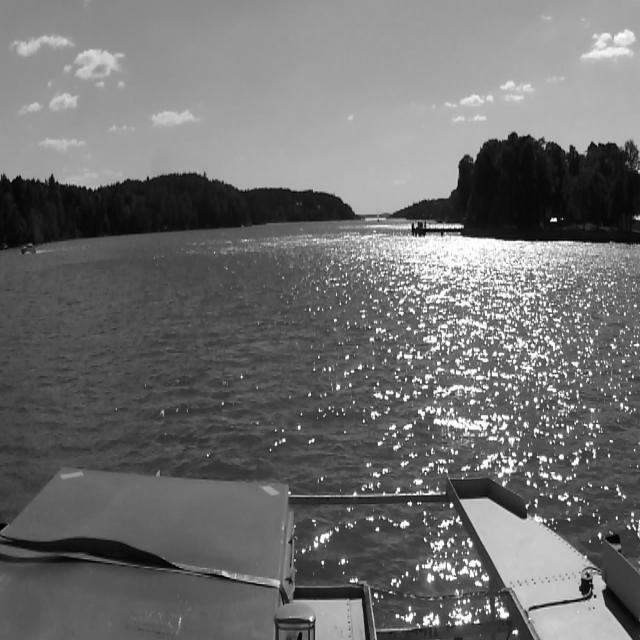ship: (22, 244, 36, 254)
